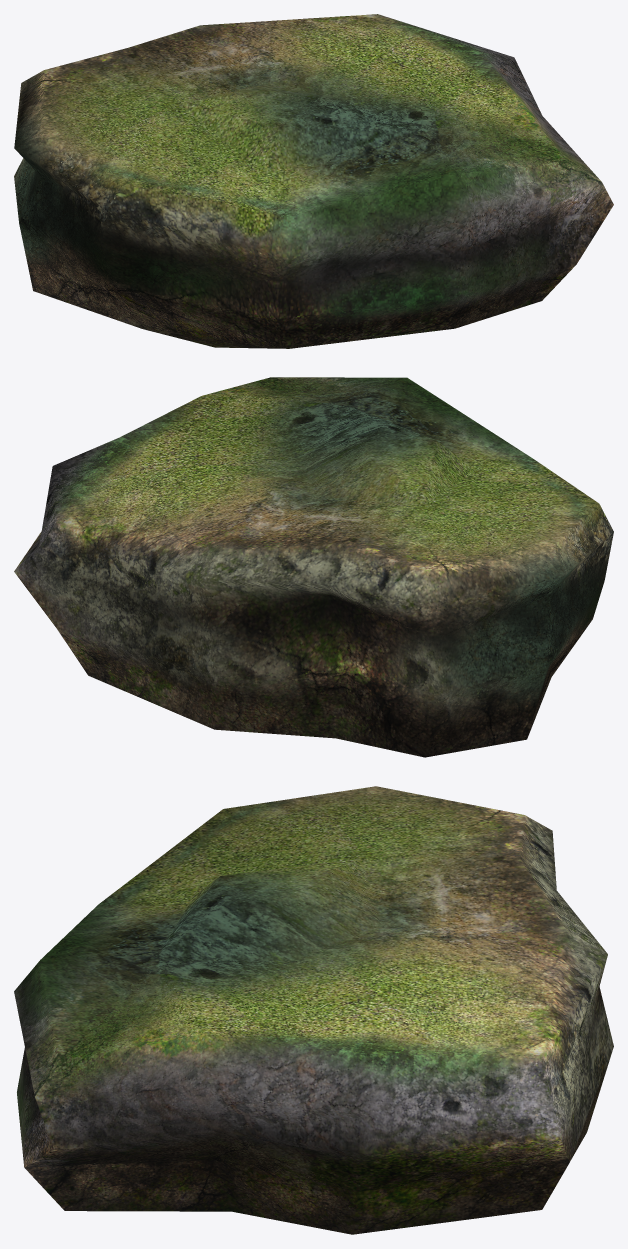
The model's file is rock_011.fbx.
3 views of the same model, one above another, from view 1: azimuth 30°, elevation 25°; view 2: azimuth 150°, elevation 25°; view 3: azimuth 270°, elevation 25° (orthographic). The views are drawn at different scales.
Parts seen in each view (by area): view 1: rock_011; view 2: rock_011; view 3: rock_011.
Boxes of the visible parts, left/top/right/bottom form: rock_011: left=14, top=14, right=613, bottom=348; rock_011: left=14, top=377, right=613, bottom=757; rock_011: left=14, top=786, right=613, bottom=1234.
Size of the model in its own units: 457 by 192 by 392.
1 material, 1 textured.
